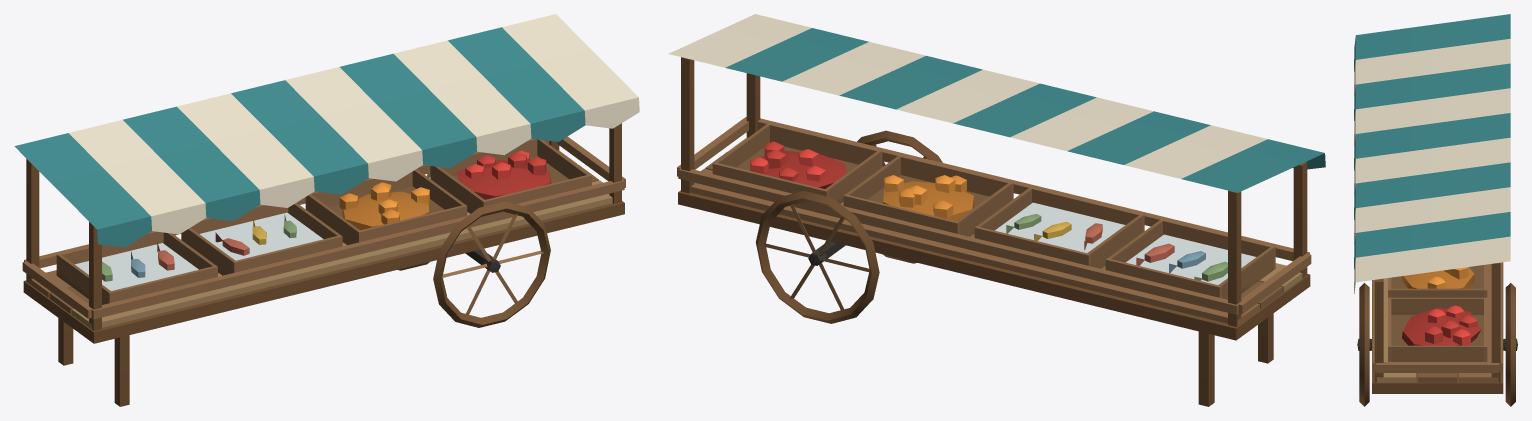
The model's file is market-cart.glb.
3 renders of one model, left to right at view 1: azimuth 30°, elevation 25°; view 2: azimuth 150°, elevation 25°; view 3: azimuth 270°, elevation 25°, orthographic. The views are drawn at different scales.
Visible parts, largest first — view 1: market-cart; view 2: market-cart; view 3: market-cart.
Part boxes in pixels (bbox=[...]): market-cart: bbox=[14, 14, 639, 406]; market-cart: bbox=[668, 14, 1325, 406]; market-cart: bbox=[1354, 14, 1517, 406].
Bounding box in the file's own units: 7.27 × 2.81 × 2.04.
